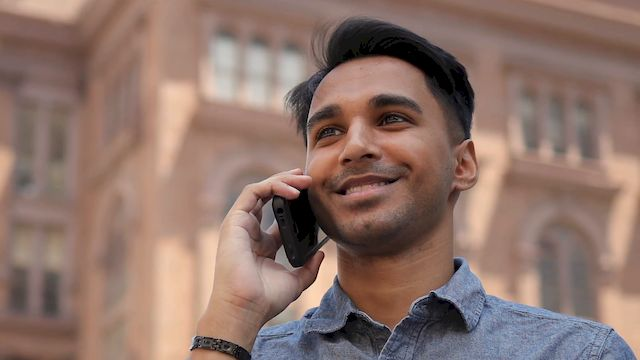phone: (265, 178, 325, 263)
talk: (209, 86, 449, 313)
